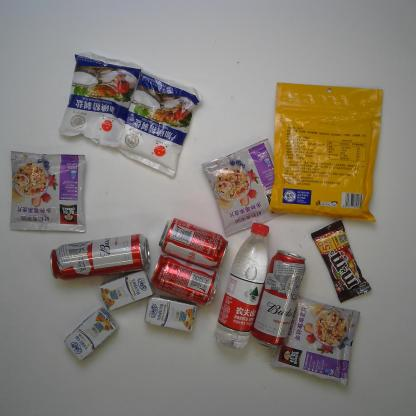Alcohol: (250, 249, 307, 350), (50, 233, 151, 282)
Chocolate: (310, 219, 374, 305)
Dried Fruit: (268, 82, 384, 223)
Drink: (214, 221, 270, 350), (149, 253, 220, 306), (158, 218, 230, 270)
Instant Drink: (268, 295, 360, 388), (201, 139, 286, 237), (9, 150, 87, 233)
Milk: (64, 306, 119, 362), (98, 269, 154, 312), (145, 294, 198, 333)
Seasoner: (116, 70, 201, 178), (59, 51, 142, 149)
